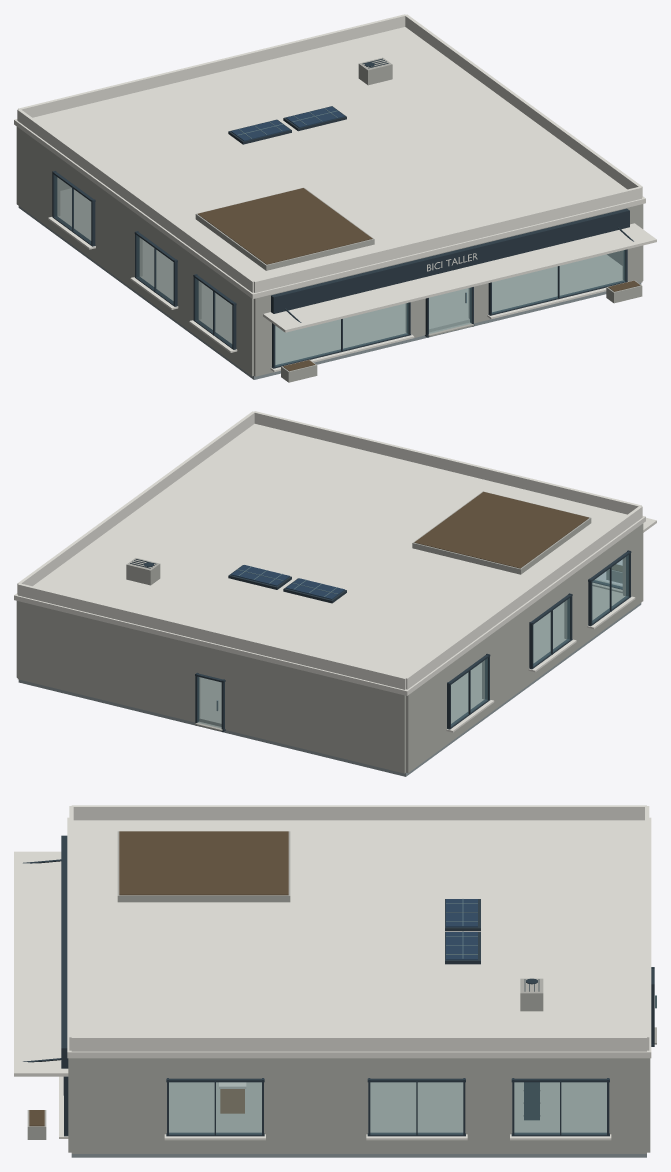
The model's file is Shop_4.fbx.
The picture shows the model from 3 angles, top to bottom: view 1: azimuth 30°, elevation 25°; view 2: azimuth 150°, elevation 25°; view 3: azimuth 270°, elevation 25°; orthographic projection. The views are drawn at different scales.
Parts seen in each view (by area): view 1: Shop_4.079; view 2: Shop_4.079; view 3: Shop_4.079.
Part boxes in pixels (left/top/right/bottom): Shop_4.079: left=14, top=14, right=656, bottom=382; Shop_4.079: left=14, top=411, right=656, bottom=776; Shop_4.079: left=14, top=805, right=656, bottom=1157.
Size of the model in its own units: 19.87 by 4.87 by 22.34.
